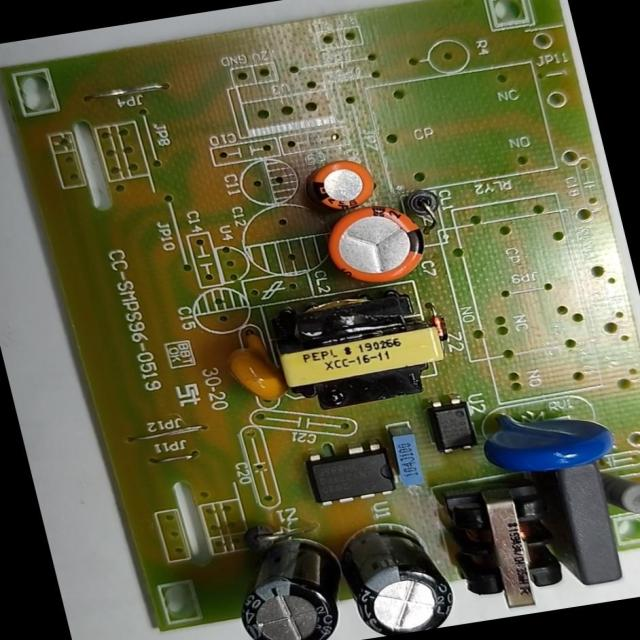Cap1: (319, 197, 442, 297)
Cap2: (304, 154, 384, 216)
Cap3: (334, 513, 464, 639)
Cap4: (223, 534, 354, 640)
MOSFET: (304, 440, 402, 510)
Mov: (478, 395, 622, 480)
Resistor: (600, 462, 640, 528)
Transformer: (260, 280, 452, 416), (434, 468, 582, 620)
